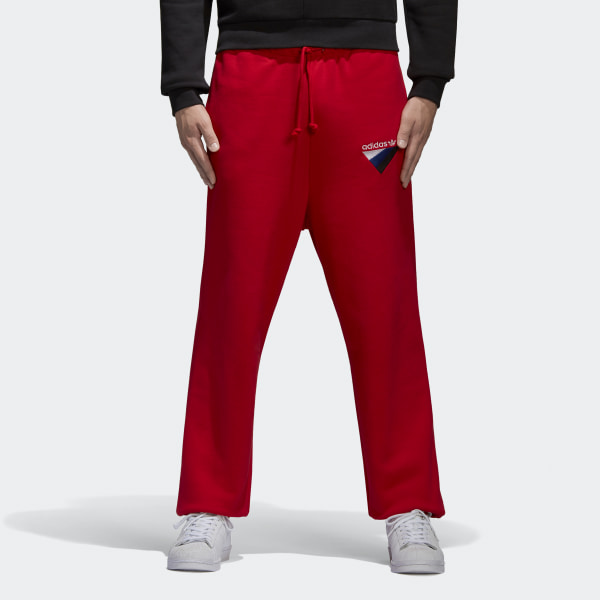feet: (149, 465, 459, 581)
